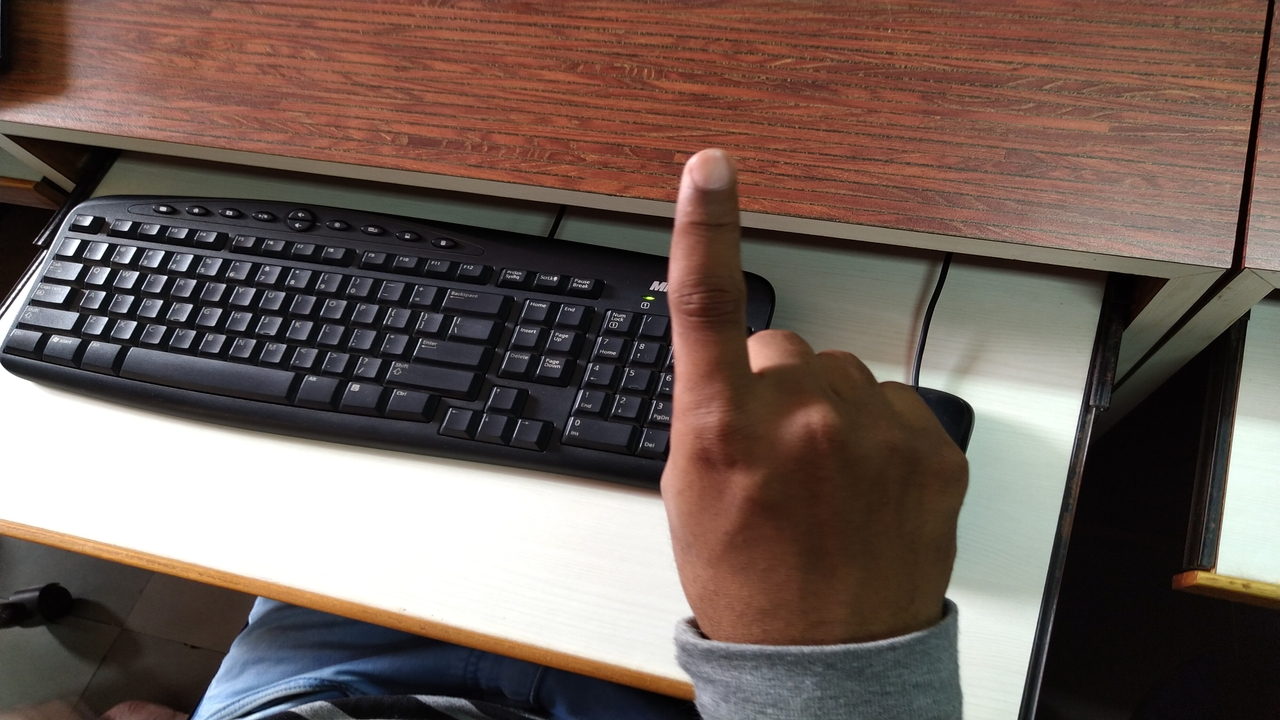fingertip: (676, 144, 742, 202)
